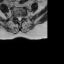CCS_stenosis: (18, 15, 20, 22)
LFS_stenosis: (21, 14, 23, 19)
LLS_normal: (20, 15, 21, 21)
RFS_stenosis: (15, 13, 17, 19)
RLS_normal: (17, 15, 18, 21)
